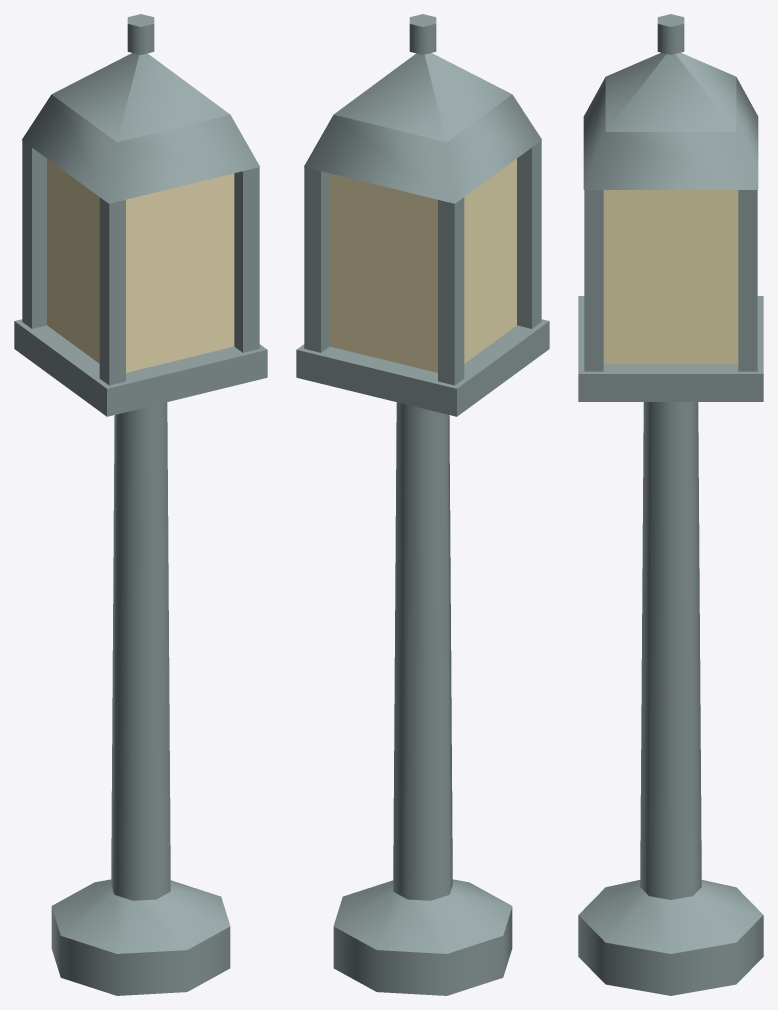
The model's file is gardenLantern.glb.
3 views of the same model, side by side, from view 1: azimuth 30°, elevation 25°; view 2: azimuth 150°, elevation 25°; view 3: azimuth 270°, elevation 25° (orthographic).
Visible parts, largest first — view 1: gardenLantern; view 2: gardenLantern; view 3: gardenLantern.
Part boxes in pixels (x1,y1,x2,y2): gardenLantern: [14, 14, 267, 995]; gardenLantern: [296, 14, 549, 995]; gardenLantern: [578, 14, 763, 995].
Size of the model in its own units: 0.12 by 0.67 by 0.12.
